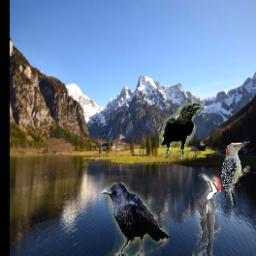Crow: (101, 182, 170, 256), (160, 101, 204, 158)
Woodpecker: (192, 174, 221, 256), (221, 139, 250, 211)
